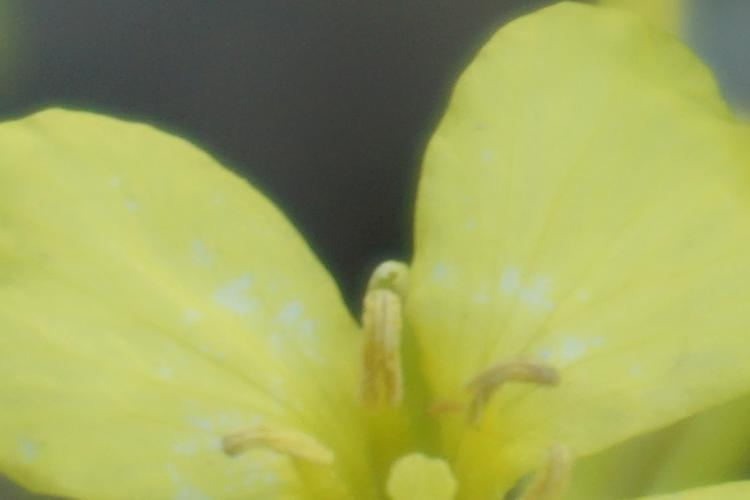yellow: (6, 66, 744, 500)
